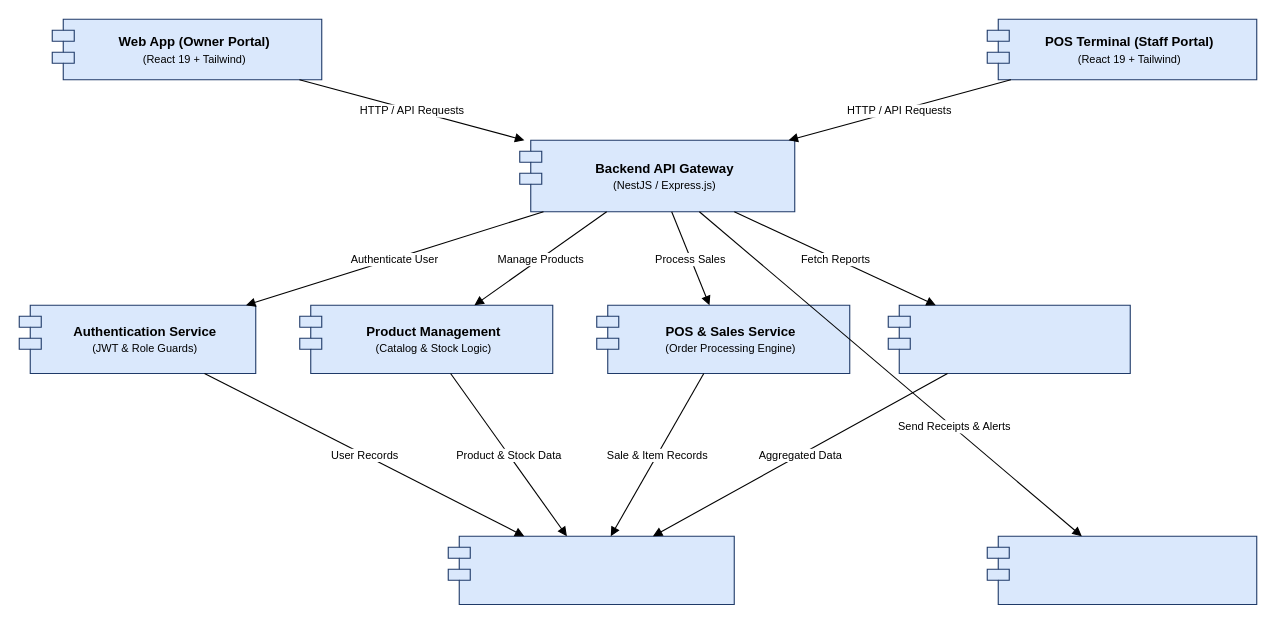
Some shapes in this 1276 by 624 pixel diagram are drawn without their labels. Here are the shapes that lost their labels. From the top down, the box of each, then its label:
(887, 304, 1130, 373): Analytics Service (Sales Trends & KPIs)
(447, 535, 734, 604): Database (PostgreSQL + Prisma ORM)
(986, 535, 1257, 604): Receipt & Notification (PDFKit / WhatsApp API)
